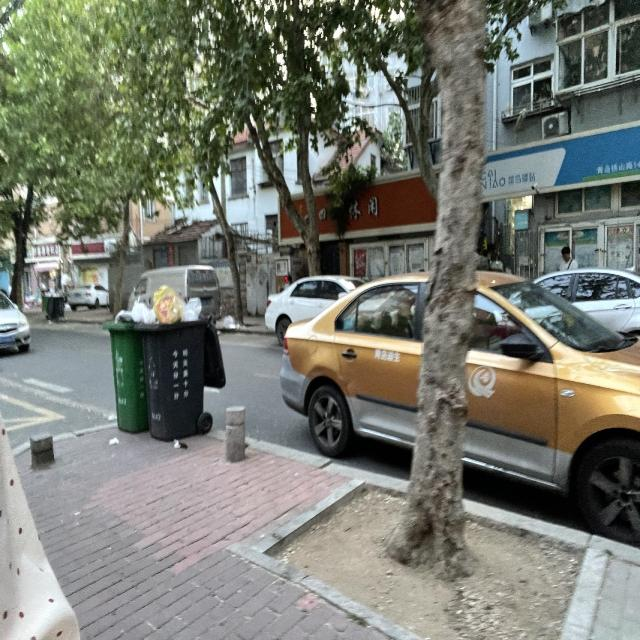overflow: (136, 284, 225, 441), (102, 297, 155, 433)
